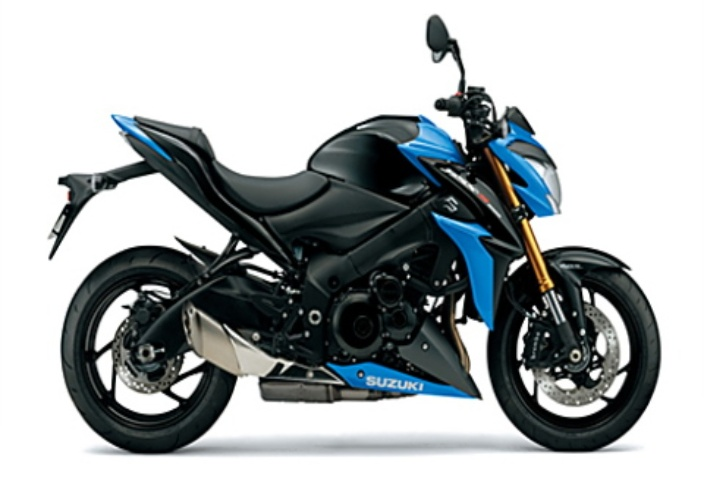motorcycle: (29, 11, 672, 474)
